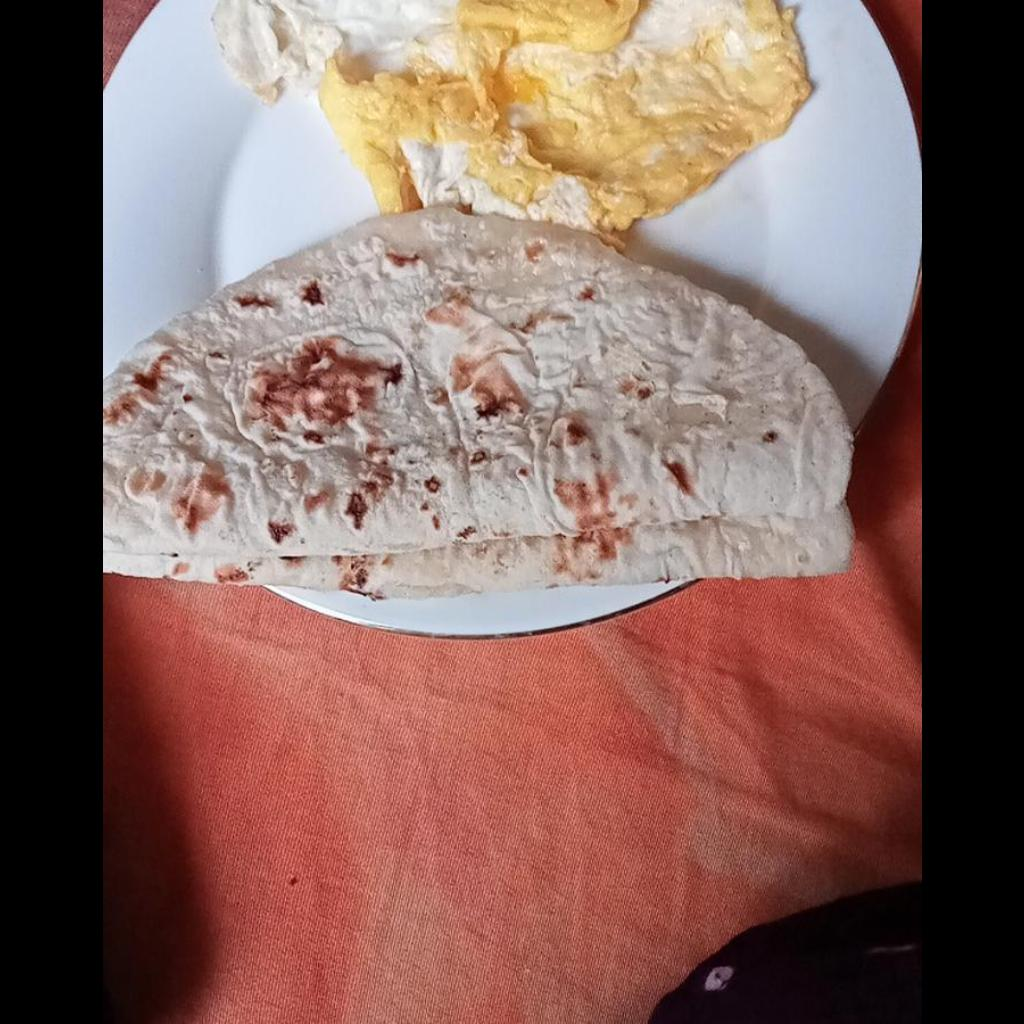egg-poached: (208, 0, 810, 243)
ruti: (104, 206, 852, 600)
